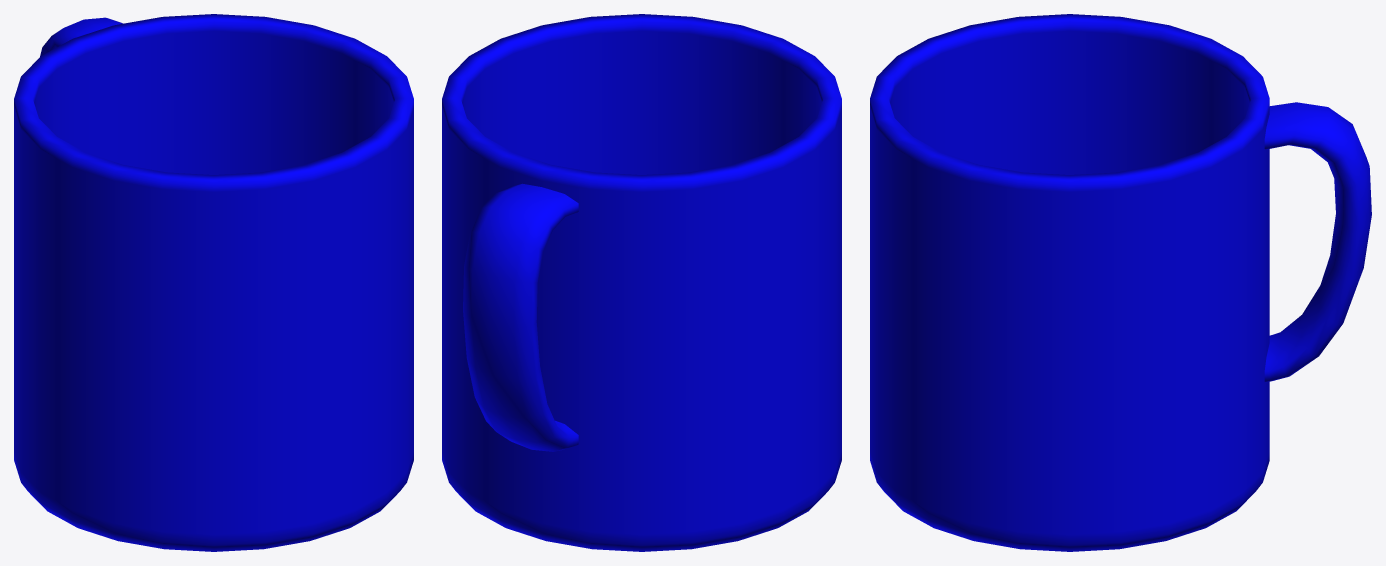
The picture shows the model from 3 angles, left to right: view 1: azimuth 30°, elevation 25°; view 2: azimuth 150°, elevation 25°; view 3: azimuth 270°, elevation 25°; orthographic projection.
Parts seen in each view (by area): view 1: mug; view 2: mug; view 3: mug.
Boxes of the visible parts, x1,y1,x2,y2 form: mug: (14,14,413,551); mug: (442,14,841,551); mug: (870,14,1371,551).
Bounding box in the file's own units: 0.0957 × 0.0984 × 0.1202.
